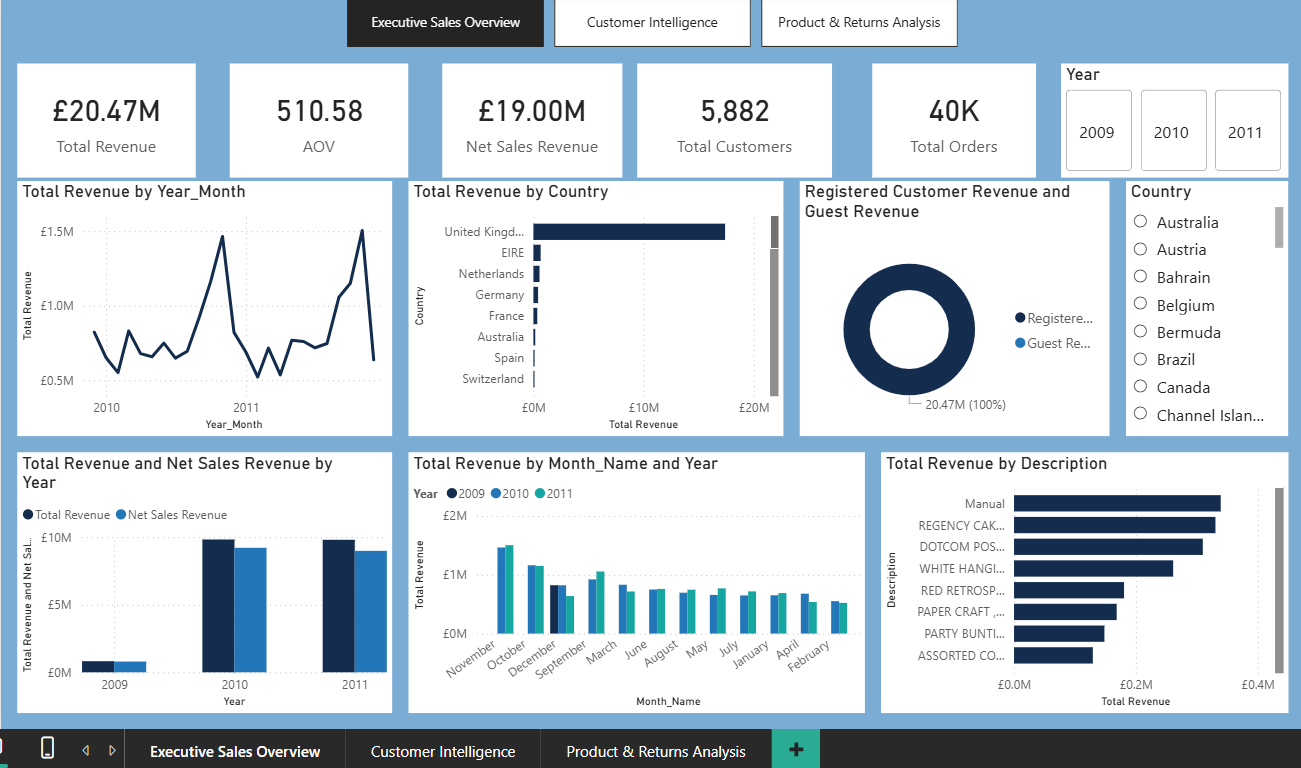

Layout of this report page (visuals, bound fields, positions):
{"tool":"powerbi","page":{"name":"Executive Sales Overview","canvas":[1280,720],"ordinal":0},"visuals":[{"type":"card","fields":{"Values":["fact_sales.Total Revenue"]},"box":[16,66.3,175.5,111.7],"z":0},{"type":"card","fields":{"Values":["fact_returns.Net Sales Revenue"]},"box":[433.1,66.3,176.7,111.7],"z":1000},{"type":"card","fields":{"Values":["fact_sales.Total Orders"]},"box":[855.2,66.3,160.7,111.7],"z":2000},{"type":"card","fields":{"Values":["fact_sales.AOV"]},"box":[224.5,66.3,175.5,111.7],"z":3000},{"type":"card","fields":{"Values":["fact_sales.Total Customers"]},"box":[624.5,66.3,191.4,111.7],"z":4000},{"type":"lineChart","fields":{"Category":["dim_date.Year_Month"],"Y":["fact_sales.Total Revenue"]},"box":[16,181.6,368.1,250.3],"z":5000},{"type":"clusteredBarChart","fields":{"Category":["dim_country.Country"],"Y":["fact_sales.Total Revenue"]},"box":[400,181.6,368.1,250.3],"z":6000},{"type":"clusteredBarChart","fields":{"Category":["dim_product.Description"],"Y":["fact_sales.Total Revenue"]},"box":[864,448,400,256],"z":7000},{"type":"clusteredColumnChart","fields":{"Category":["dim_date.Month_Name"],"Y":["fact_sales.Total Revenue"],"Series":["dim_date.Year"]},"box":[400,448,448,256],"z":8000},{"type":"donutChart","fields":{"Y":["fact_sales.Registered Customer Revenue","fact_sales.Guest Revenue"]},"box":[784.1,181.6,304.3,250.3],"z":9000},{"type":"clusteredColumnChart","fields":{"Category":["dim_date.Year"],"Y":["fact_sales.Total Revenue","fact_returns.Net Sales Revenue"]},"box":[16,448,368,256],"z":10000},{"type":"advancedSlicerVisual","fields":{"Values":["dim_date.Year"]},"box":[1040.5,66.3,223.3,111.7],"z":11000},{"type":"listSlicer","fields":{"Values":["dim_country.Country"]},"box":[1104.3,181.6,159.5,250.3],"z":12000},{"type":"pageNavigator","box":[339.9,0,600,50.3],"z":12001}]}

Visuals, with their boxes on the page's 1280x720 design canvas (x1, y1, x2, y2). These are canvas units, not pixel positions in the 1301x768 screenshot, which may show the page scaled, cropped or inside an application window:
card - fact_sales.Total Revenue: pyautogui.locateOnScreen(16, 66, 192, 178)
card - fact_returns.Net Sales Revenue: pyautogui.locateOnScreen(433, 66, 610, 178)
card - fact_sales.Total Orders: pyautogui.locateOnScreen(855, 66, 1016, 178)
card - fact_sales.AOV: pyautogui.locateOnScreen(224, 66, 400, 178)
card - fact_sales.Total Customers: pyautogui.locateOnScreen(624, 66, 816, 178)
lineChart - dim_date.Year_Month x fact_sales.Total Revenue: pyautogui.locateOnScreen(16, 182, 384, 432)
clusteredBarChart - dim_country.Country x fact_sales.Total Revenue: pyautogui.locateOnScreen(400, 182, 768, 432)
clusteredBarChart - dim_product.Description x fact_sales.Total Revenue: pyautogui.locateOnScreen(864, 448, 1264, 704)
clusteredColumnChart - dim_date.Month_Name x fact_sales.Total Revenue: pyautogui.locateOnScreen(400, 448, 848, 704)
donutChart - fact_sales.Registered Customer Revenue x fact_sales.Guest Revenue: pyautogui.locateOnScreen(784, 182, 1088, 432)
clusteredColumnChart - dim_date.Year x fact_sales.Total Revenue: pyautogui.locateOnScreen(16, 448, 384, 704)
advancedSlicerVisual - dim_date.Year: pyautogui.locateOnScreen(1040, 66, 1264, 178)
listSlicer - dim_country.Country: pyautogui.locateOnScreen(1104, 182, 1264, 432)
pageNavigator: pyautogui.locateOnScreen(340, 0, 940, 50)
